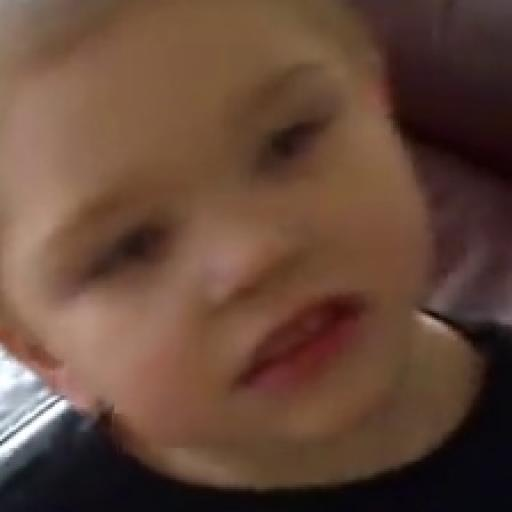Autism: (0, 3, 471, 467)
